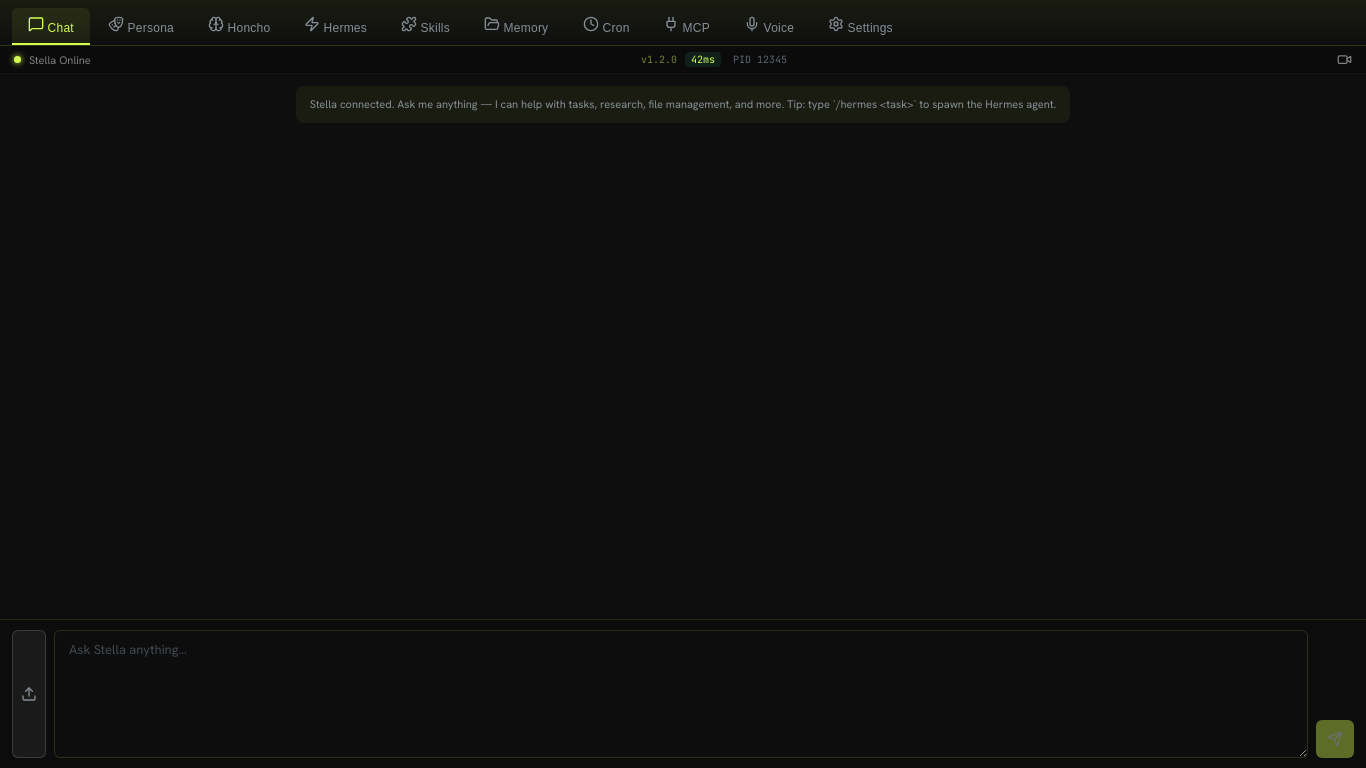
Test case: StellaAgent › switches to Memory tab and shows files
Check: the text "Stella Online" is shown, box [29,52,91,66]
Click the button "Memory".
click(516, 26)  # box [468,8,565,45]
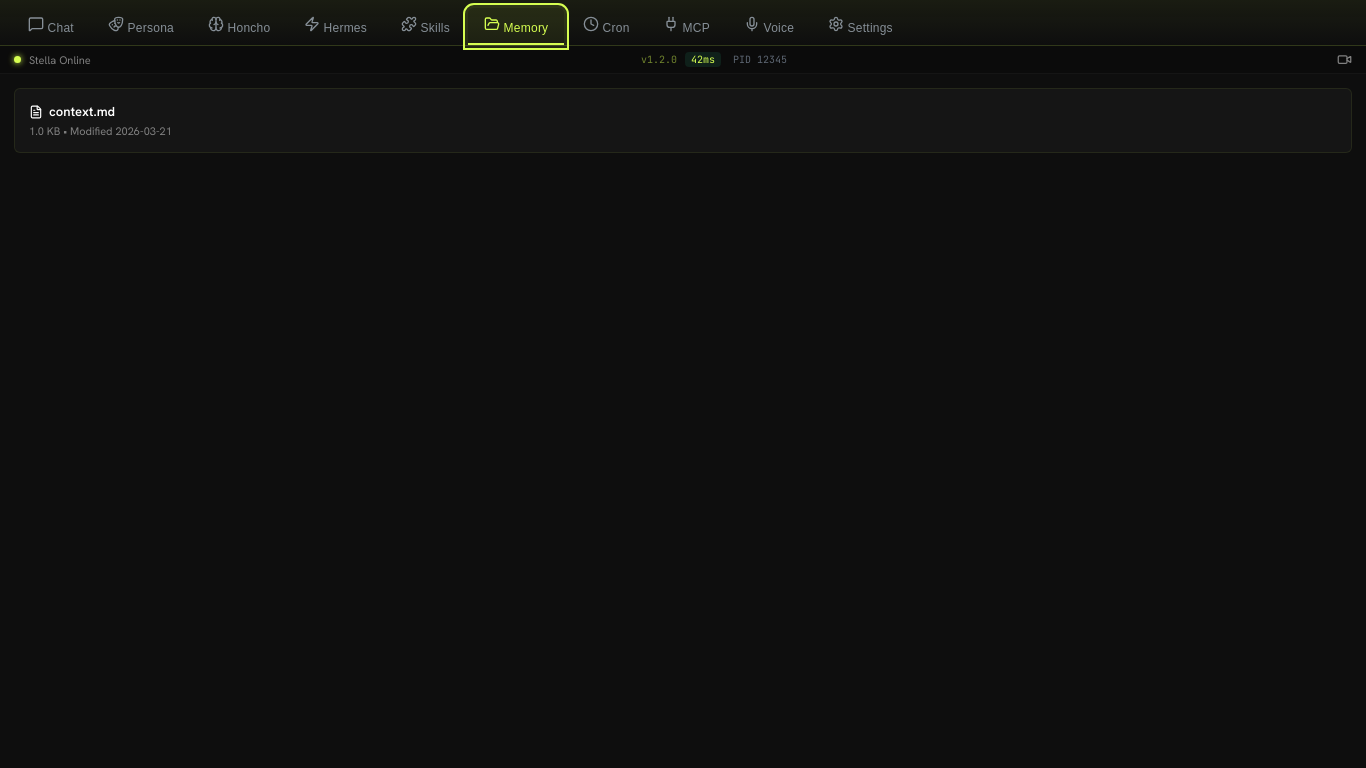
Check: the text "context.md" is shown, box [29,103,115,120]
